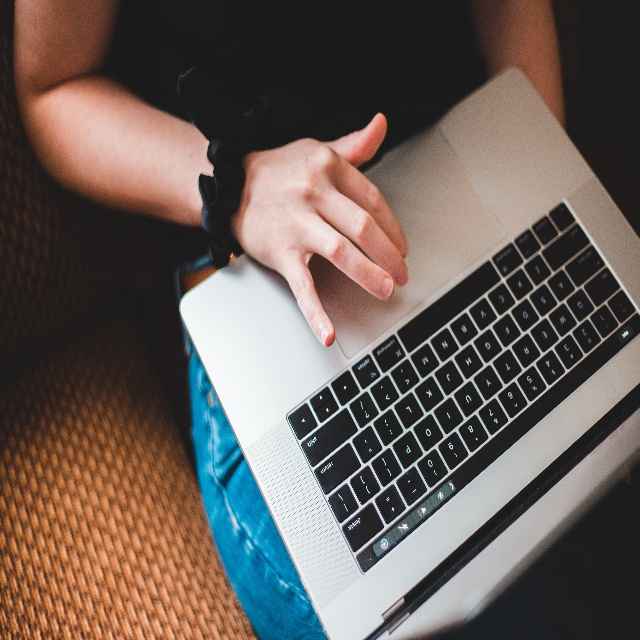Sin_guantes: (239, 112, 408, 349)
